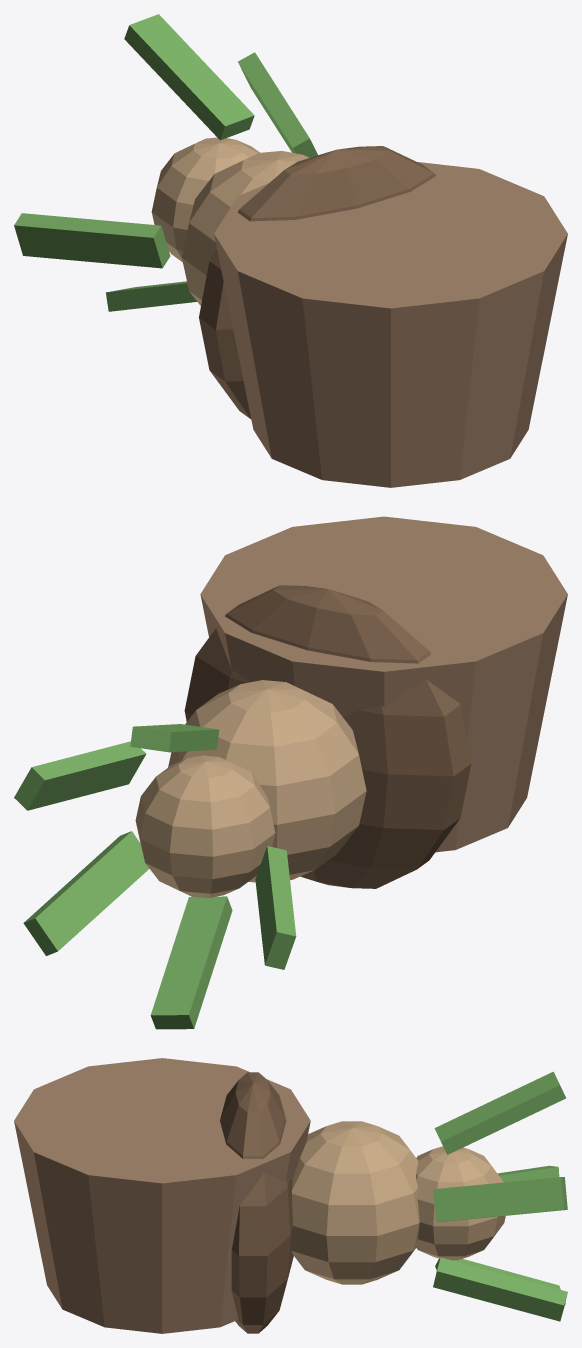
The model's file is mandrake.glb.
The picture shows the model from 3 angles, top to bottom: view 1: azimuth 30°, elevation 25°; view 2: azimuth 150°, elevation 25°; view 3: azimuth 270°, elevation 25°; orthographic projection. The views are drawn at different scales.
Visible parts, largest first — view 1: pot, dirt, leaf_4, leaf_0, body, head, leaf_1, leaf_3; view 2: pot, dirt, body, head, leaf_3, leaf_2, leaf_1, leaf_4, leaf_0; view 3: pot, body, dirt, head, leaf_1, leaf_2, leaf_0, leaf_4, leaf_3.
Boxes of the visible parts, x1,y1,x2,y2 form: pot: [214, 162, 567, 487]; dirt: [199, 146, 435, 419]; leaf_4: [14, 213, 170, 268]; leaf_0: [124, 14, 254, 140]; body: [182, 151, 309, 305]; head: [151, 137, 259, 262]; leaf_1: [238, 52, 317, 157]; leaf_3: [105, 281, 197, 311]; pot: [200, 516, 567, 852]; dirt: [184, 585, 471, 888]; body: [168, 680, 366, 882]; head: [135, 755, 275, 897]; leaf_3: [150, 896, 232, 1029]; leaf_2: [23, 831, 149, 955]; leaf_1: [14, 741, 146, 810]; leaf_4: [255, 846, 296, 969]; leaf_0: [130, 724, 219, 752]; pot: [14, 1058, 310, 1333]; body: [292, 1121, 419, 1284]; dirt: [220, 1072, 293, 1333]; head: [416, 1146, 505, 1260]; leaf_1: [433, 1177, 567, 1222]; leaf_2: [433, 1257, 567, 1321]; leaf_0: [434, 1071, 565, 1154]; leaf_4: [497, 1165, 559, 1182]; leaf_3: [435, 1258, 565, 1305].
Size of the model in its own units: 0.36 by 0.3219 by 0.6719.
